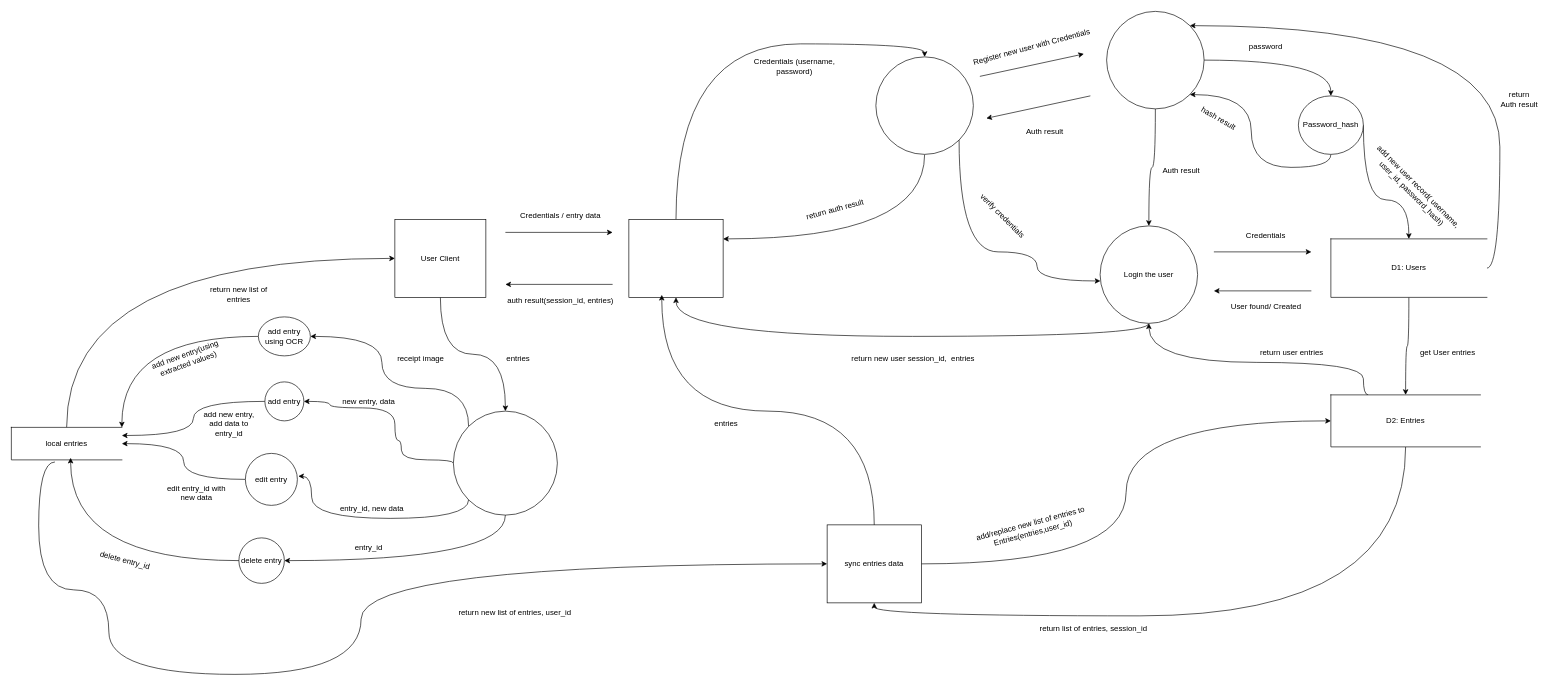
Some shapes in this 1550 by 686 pixel diagram are drawn without their labels. Here are the shapes that lost their labels. From the top down, the centre of each, then its label:
the point at 1155,60: Register the user
the point at 924,105: Authenticate the user
the point at 675,258: Claimr-Api
the point at 505,462: Manage user entries
